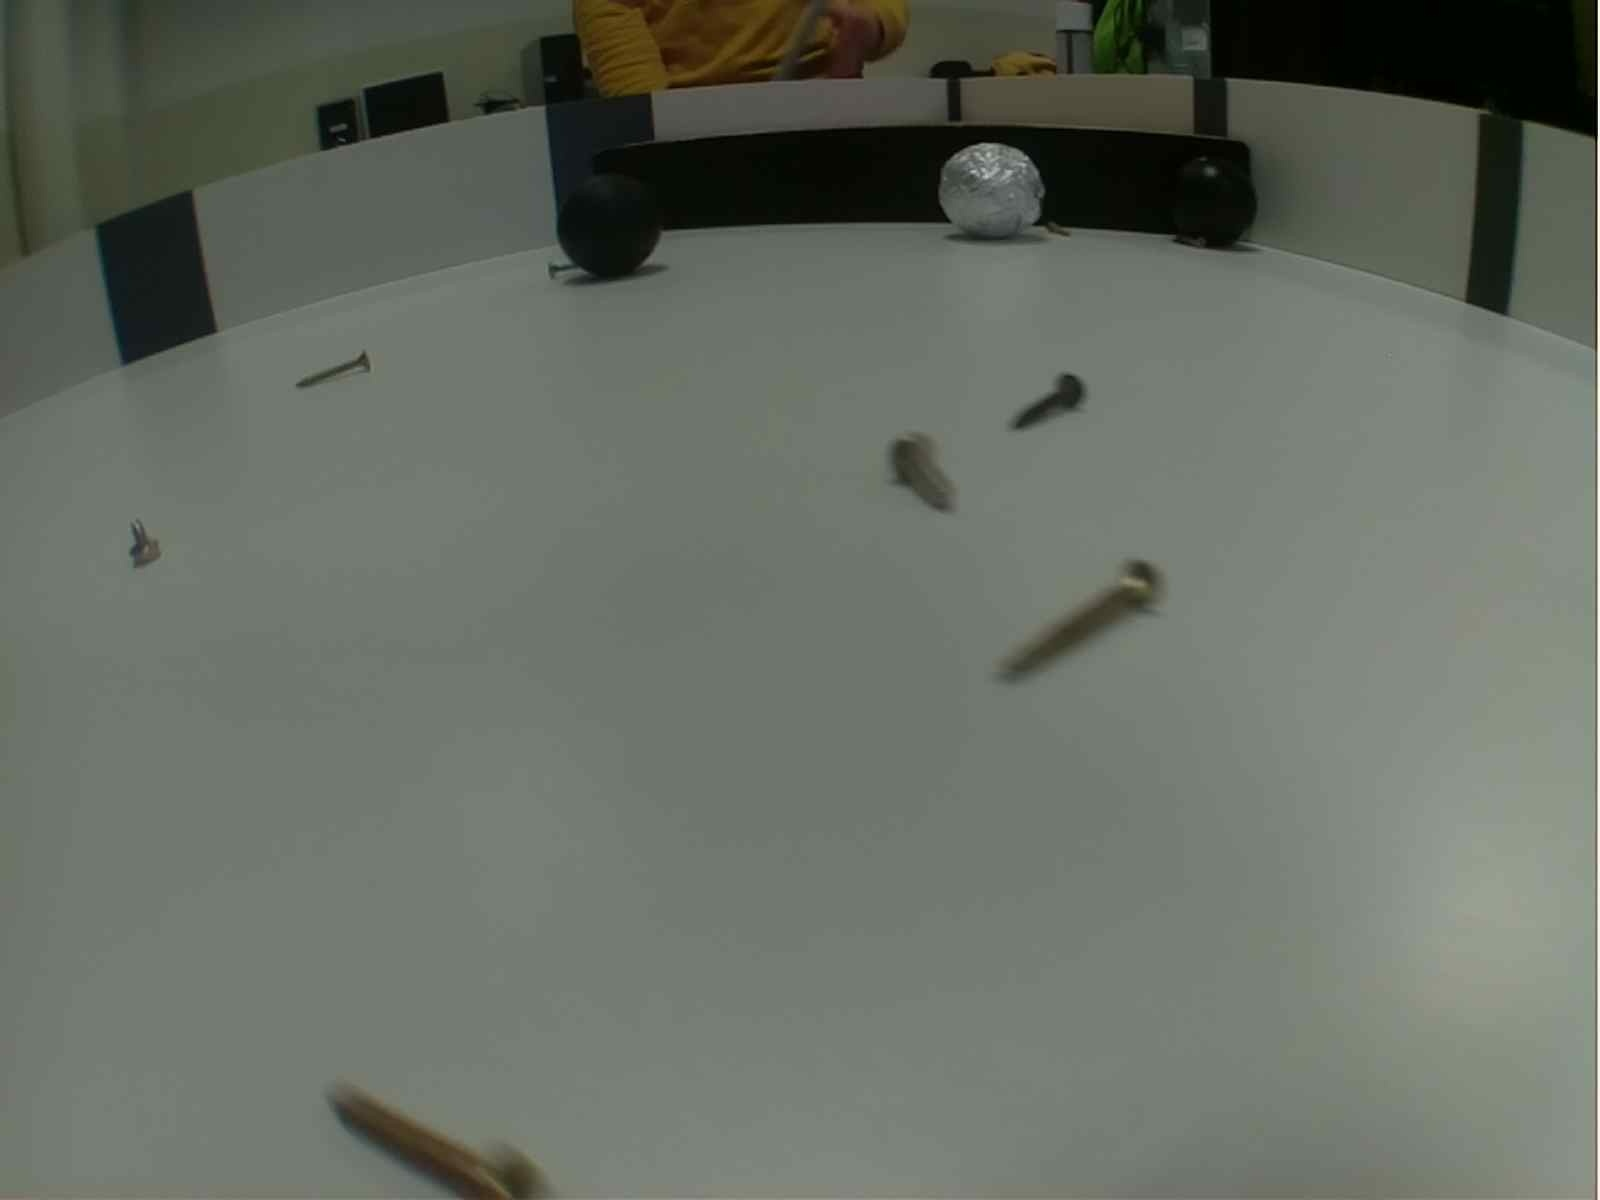bianca: (937, 137, 1046, 242)
nera: (551, 165, 666, 282), (1169, 159, 1264, 246)
